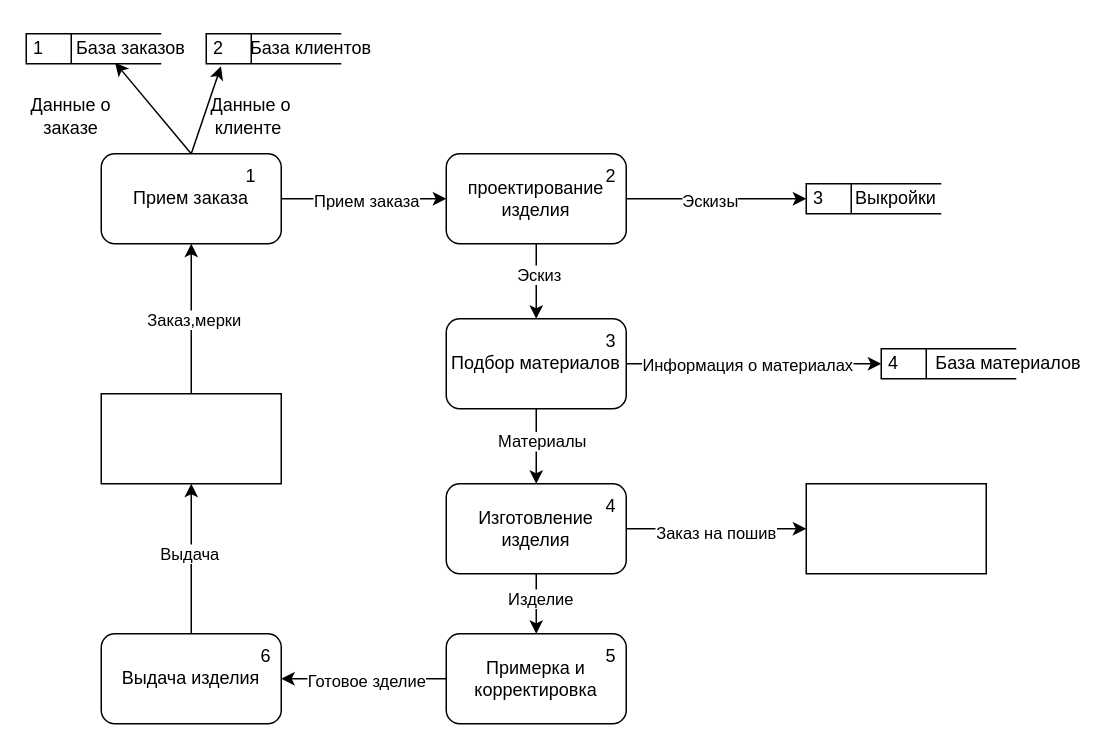
This 1118x750 diagram has some shape labels left out. Here are the shapes that lost their labels. From the top down, the centre of each, then its label:
At [190,438]: "Клиент".
At [895,528]: "Ателье".
